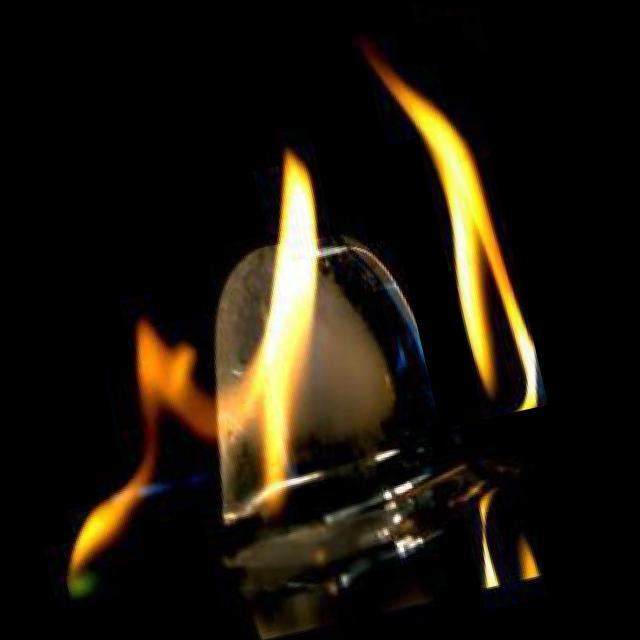fire: (132, 121, 412, 530), (350, 14, 548, 428)
